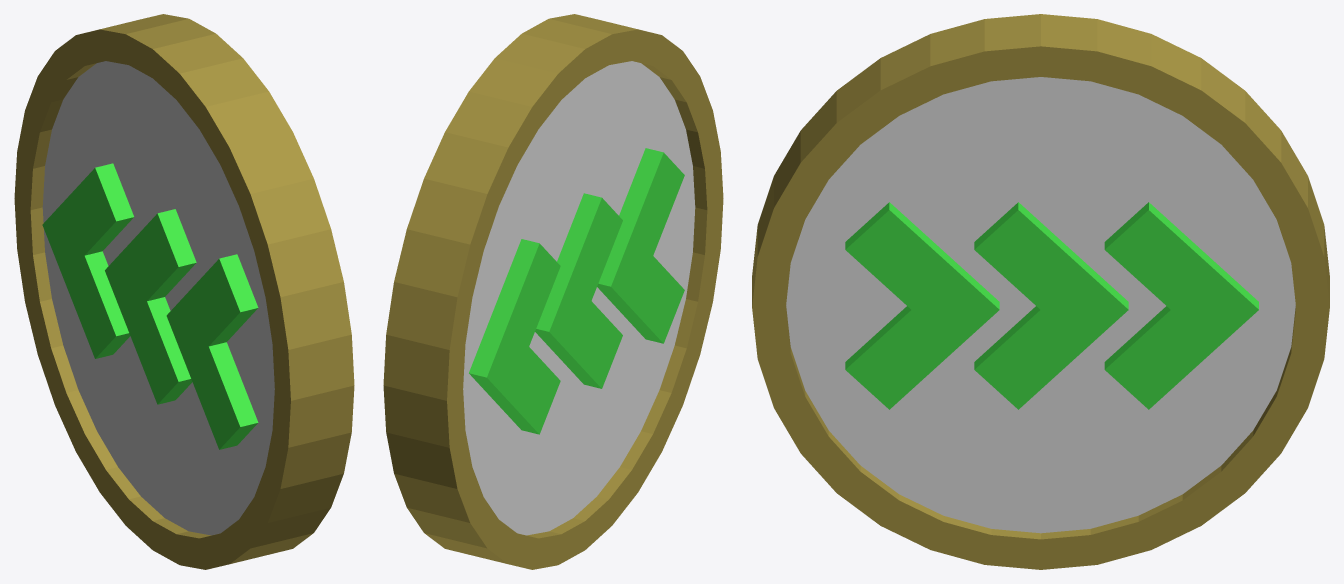
File: speed.fbx
3 views of the same model, side by side, from view 1: azimuth 30°, elevation 25°; view 2: azimuth 150°, elevation 25°; view 3: azimuth 270°, elevation 25° (orthographic). The views are drawn at different scales.
Visible parts, largest first — view 1: Speed; view 2: Speed; view 3: Speed.
Part boxes in pixels (x1,y1,x2,y2): Speed: (14, 14, 354, 569); Speed: (383, 14, 723, 569); Speed: (752, 14, 1329, 569).
Size of the model in its own units: 30.46 by 200 by 200.
